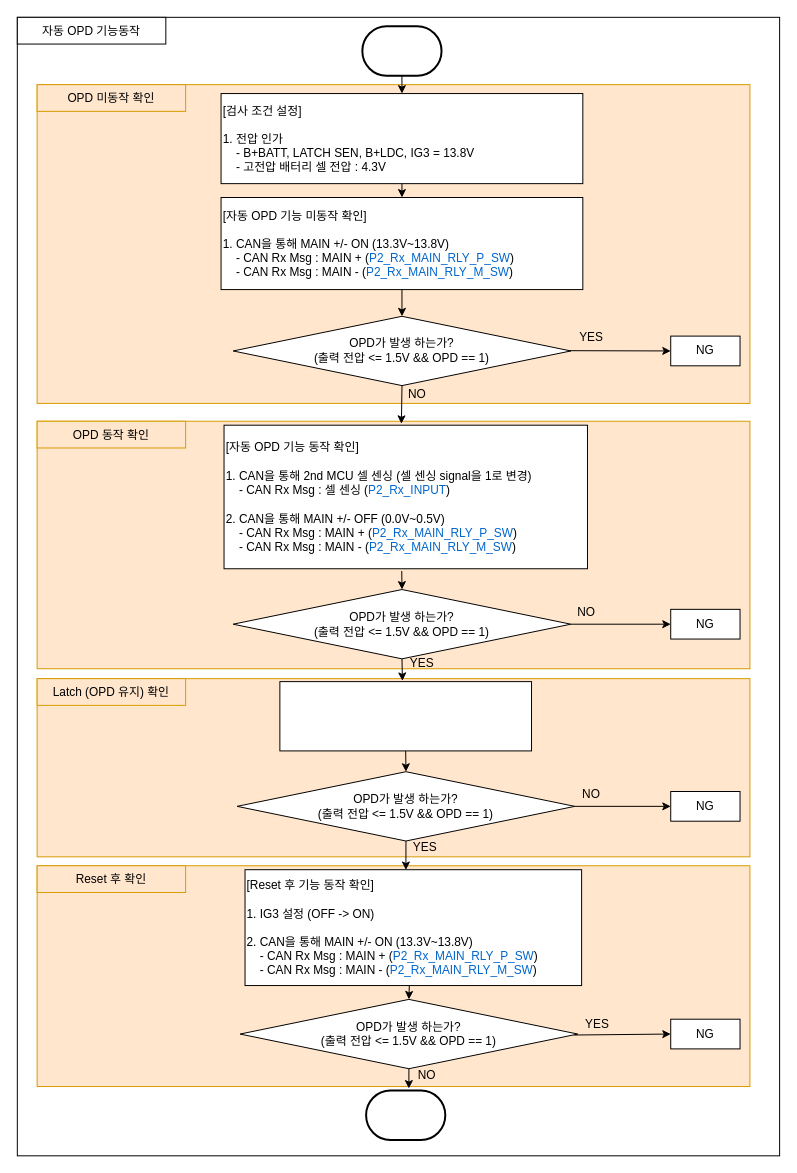
Some shapes in this 797 by 1173 pixel diagram are drawn without their labels. Each missing label, with the centre of its shape:
[Latch 기능 동작 확인] 1. 전압 인가 변경 - 고전압 배터리 셀 전압 : 4.0V: (x=405, y=716)
시작: (x=401, y=50)
종료: (x=405, y=1114)
